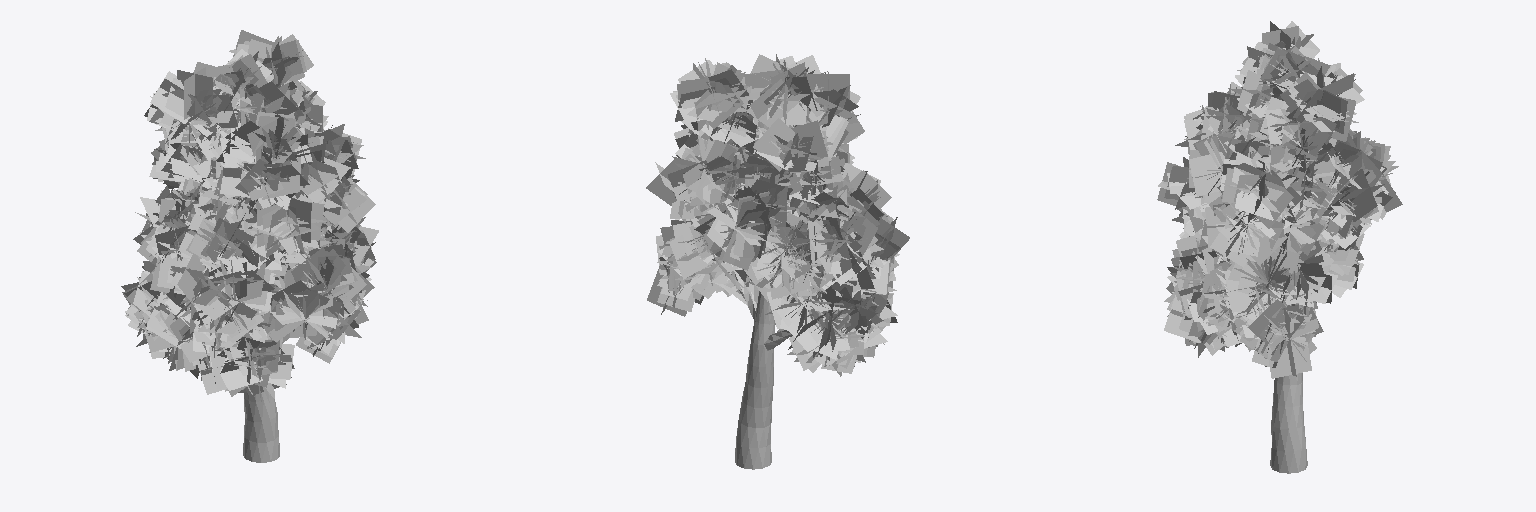
File: tree_0.obj
The picture shows the model from 3 angles: view 1: azimuth 30°, elevation 25°; view 2: azimuth 150°, elevation 25°; view 3: azimuth 270°, elevation 25°; orthographic projection.
Parts seen in each view (by area): view 1: Mesh_1, Mesh_0; view 2: Mesh_1, Mesh_0; view 3: Mesh_1, Mesh_0.
Part boxes in pixels (x1,y1,x2,y2): Mesh_1: (121,30,378,402); Mesh_0: (243,283,279,462); Mesh_1: (646,54,909,376); Mesh_0: (712,254,791,469); Mesh_1: (1157,21,1402,378); Mesh_0: (1266,169,1307,473).
Size of the model in its own units: 42.59 by 71.61 by 38.93.